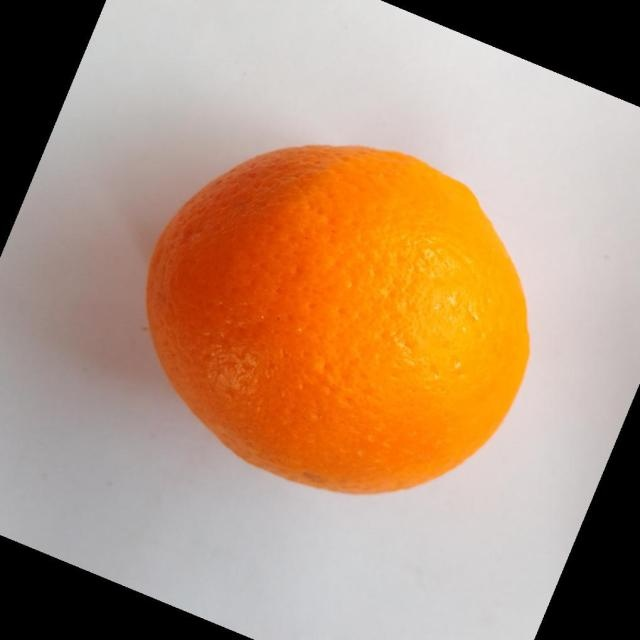agrume: (144, 141, 531, 495)
